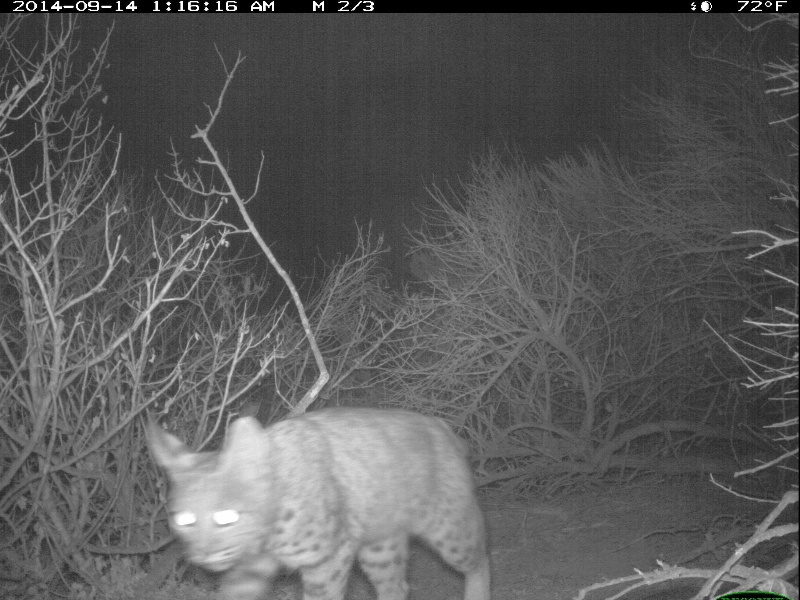cat: (142, 405, 495, 600)
